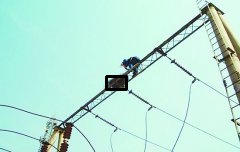bird-nest: (110, 76, 127, 87)
